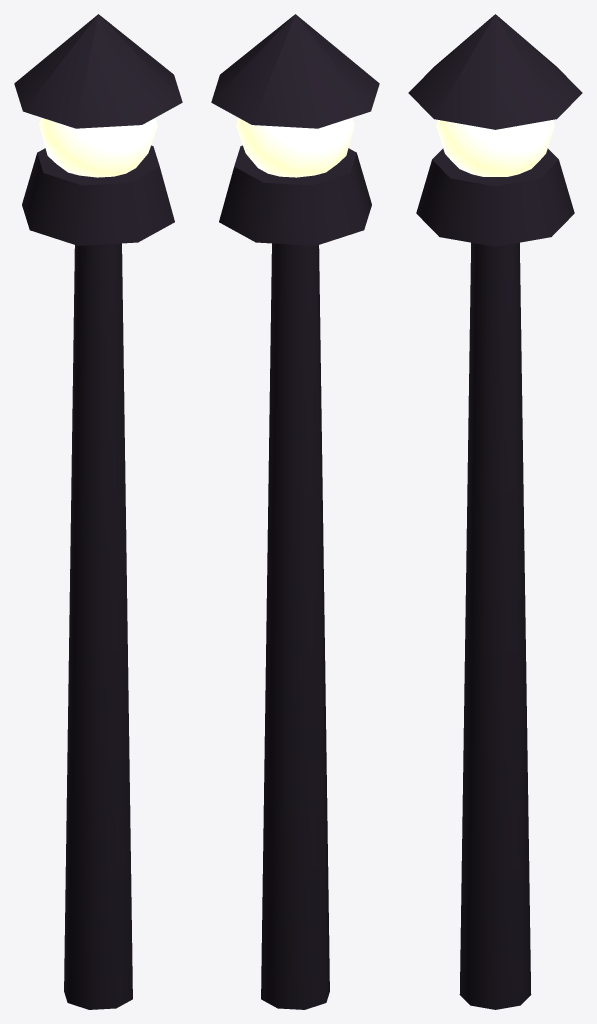
Rendered from lamp.glb.
3 views of the same model, side by side, from view 1: azimuth 30°, elevation 25°; view 2: azimuth 150°, elevation 25°; view 3: azimuth 270°, elevation 25° (orthographic).
Parts seen in each view (by area): view 1: lamp, bulb; view 2: lamp, bulb; view 3: lamp, bulb.
Boxes of the visible parts, x1,y1,x2,y2 form: lamp: [14, 14, 182, 1009]; bulb: [39, 117, 157, 177]; lamp: [211, 14, 379, 1009]; bulb: [236, 117, 354, 177]; lamp: [408, 14, 582, 1009]; bulb: [436, 120, 554, 176].
Bounding box in the file's own units: 0.44 × 2.73 × 0.44.
